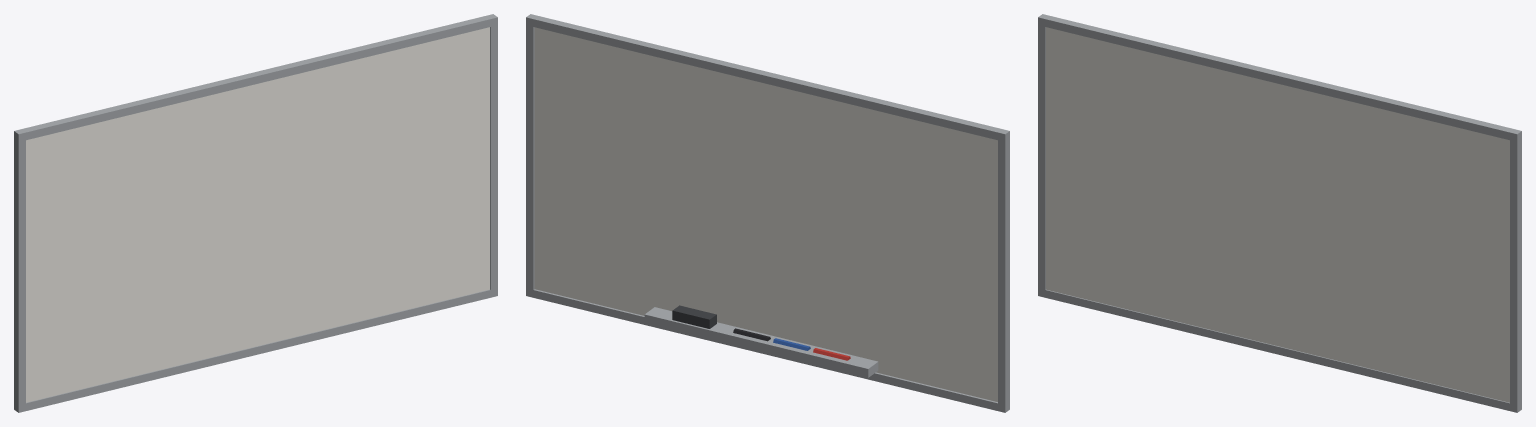
The model's file is FN_Board_White.glb.
3 renders of one model, left to right at view 1: azimuth 30°, elevation 25°; view 2: azimuth 150°, elevation 25°; view 3: azimuth 330°, elevation 25°, orthographic.
Parts seen in each view (by area): view 1: FN_Board_White; view 2: FN_Board_White; view 3: FN_Board_White.
Part boxes in pixels (x1=…): FN_Board_White: x1=14, y1=14, x2=497, y2=412; FN_Board_White: x1=526, y1=14, x2=1009, y2=412; FN_Board_White: x1=1038, y1=14, x2=1521, y2=412.
Bounding box in the file's own units: 1.8 × 1 × 0.09.
1 material, 1 textured.
